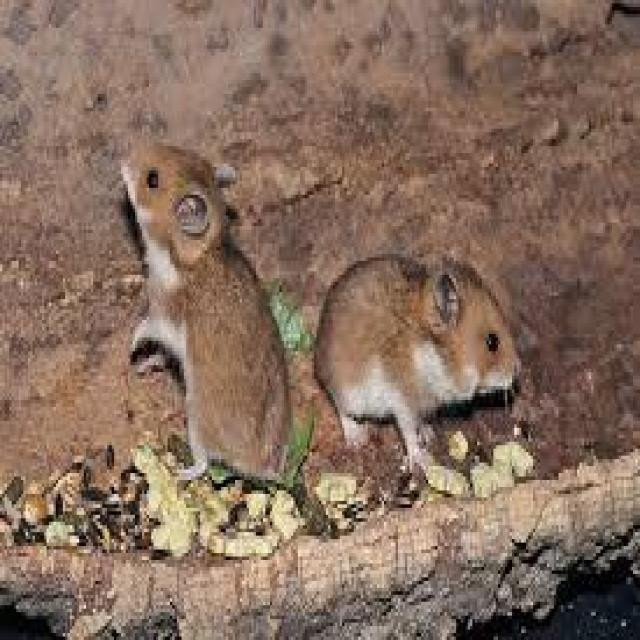hamster: (119, 116, 304, 485), (329, 206, 490, 448)
